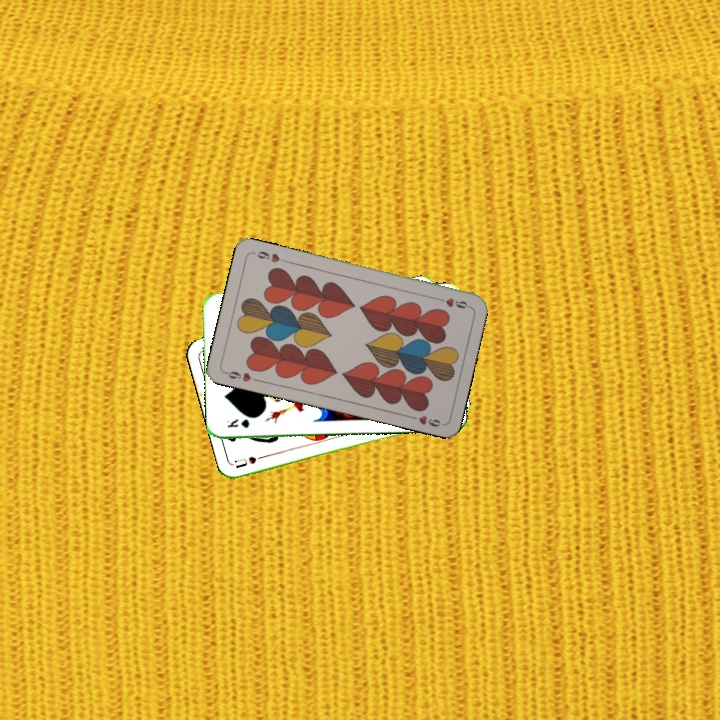GK: (224, 415, 252, 430)
H9: (221, 367, 261, 384), (432, 294, 472, 311)
SU: (231, 450, 272, 471)
